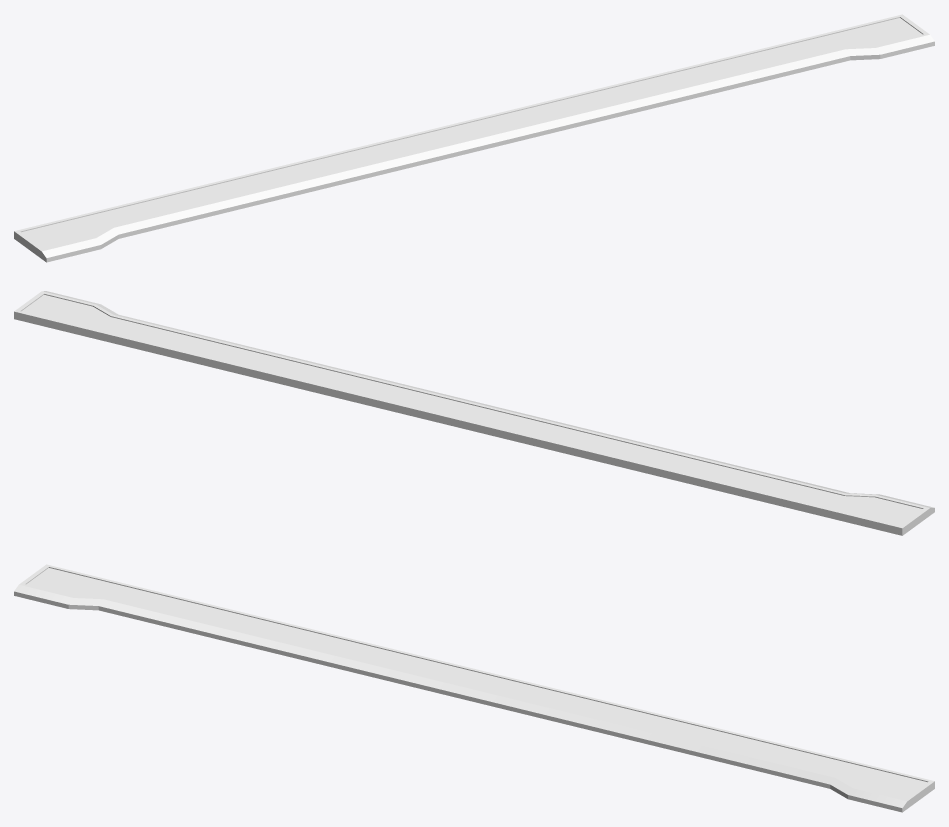
Rendered from KB3D_FTW_PropStep_A_grp.glb.
The picture shows the model from 3 angles, top to bottom: view 1: azimuth 30°, elevation 25°; view 2: azimuth 150°, elevation 25°; view 3: azimuth 330°, elevation 25°; orthographic projection.
Parts seen in each view (by area): view 1: KB3D_FTW_PropStep_A_Main; view 2: KB3D_FTW_PropStep_A_Main; view 3: KB3D_FTW_PropStep_A_Main.
Part boxes in pixels (x1,y1,x2,y2): KB3D_FTW_PropStep_A_Main: (14, 14, 934, 262); KB3D_FTW_PropStep_A_Main: (14, 291, 934, 535); KB3D_FTW_PropStep_A_Main: (14, 564, 934, 812).
Size of the model in its own units: 4.75 by 0.0389 by 0.3008.
Materials: 2 (1 with a texture image).
